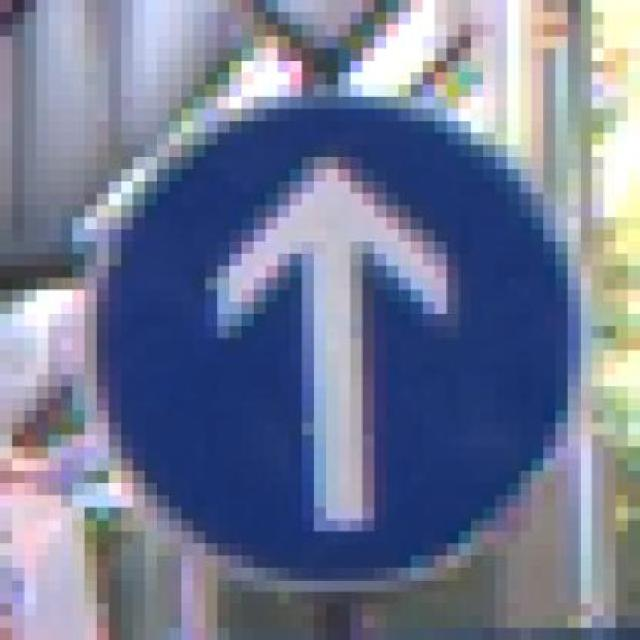Straight Ahead Only: (61, 84, 604, 604)
